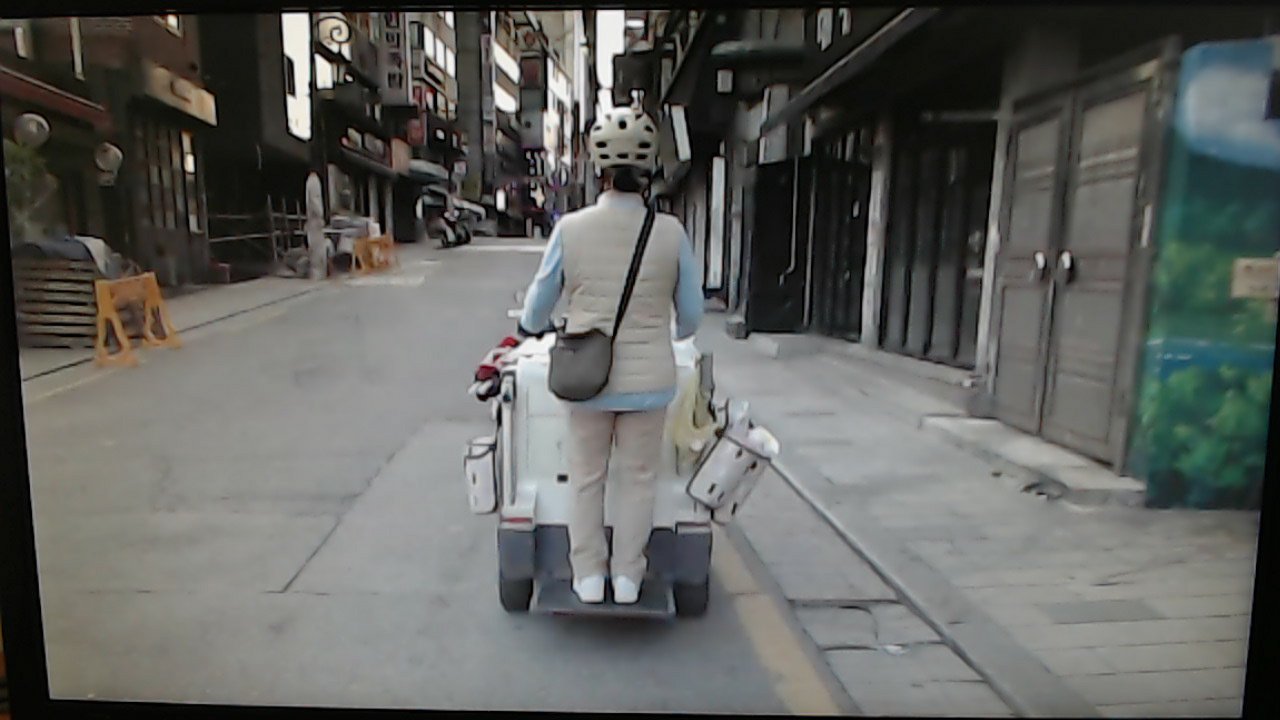Yakurut: (517, 85, 726, 626)
